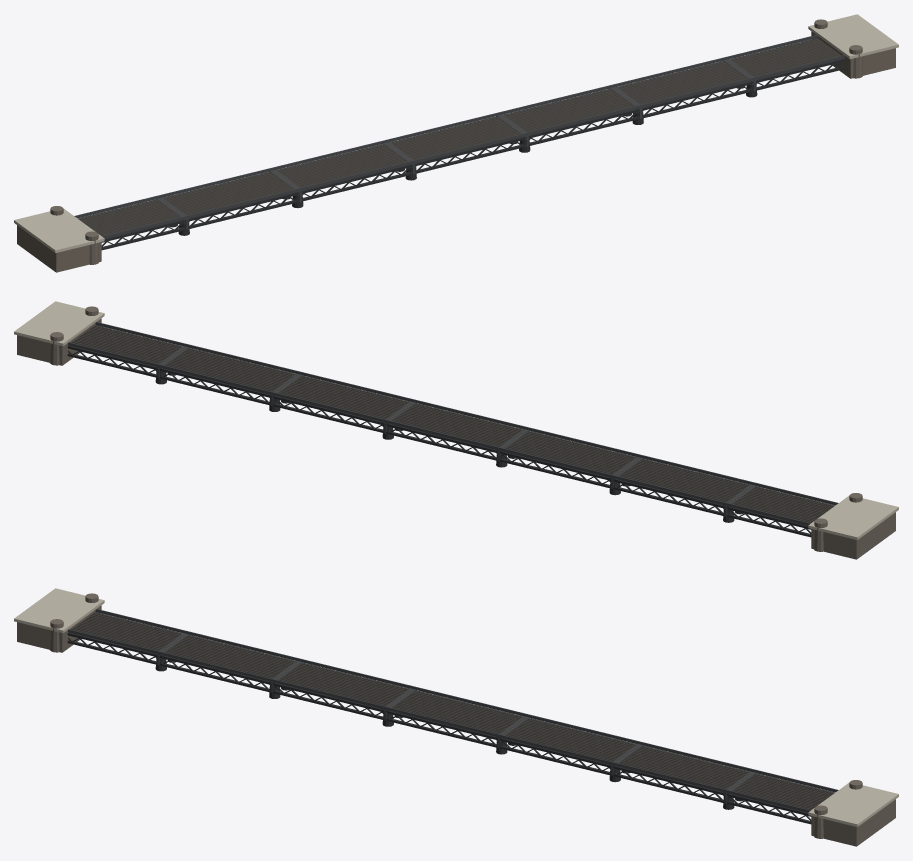
The model's file is hungerford_bridge.glb.
3 views of the same model, one above another, from view 1: azimuth 30°, elevation 25°; view 2: azimuth 150°, elevation 25°; view 3: azimuth 330°, elevation 25° (orthographic).
Parts seen in each view (by area): view 1: hungerford_bridge; view 2: hungerford_bridge; view 3: hungerford_bridge.
Boxes of the visible parts, bbox=[...] form: hungerford_bridge: bbox=[14, 14, 898, 272]; hungerford_bridge: bbox=[14, 301, 898, 559]; hungerford_bridge: bbox=[14, 588, 898, 846].
Size of the model in its own units: 446 by 14 by 38.8.
